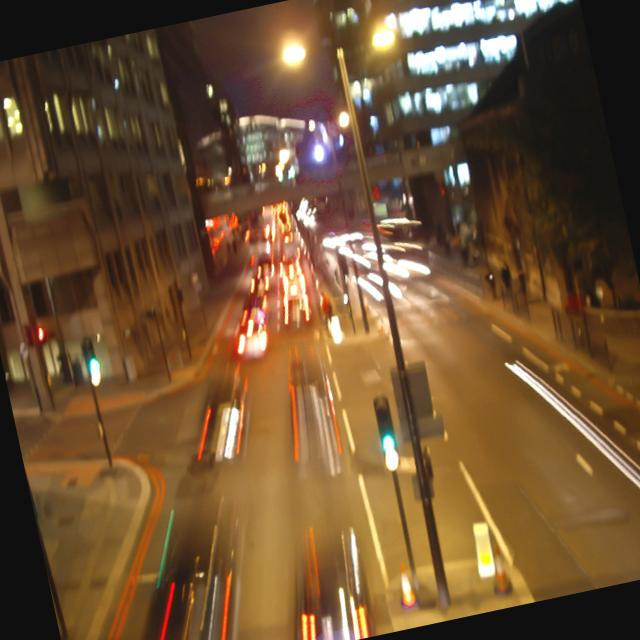Vehicle: (228, 303, 272, 362), (280, 287, 308, 331)
